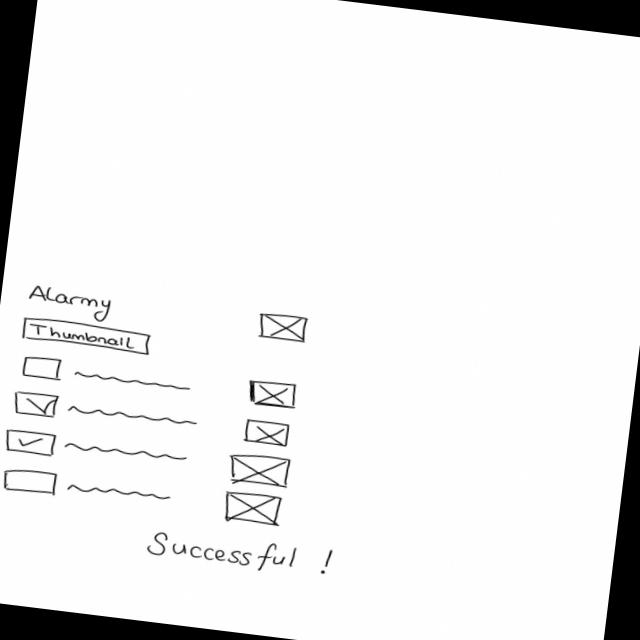button: (21, 315, 154, 356)
checkbox: (13, 390, 199, 439), (4, 428, 190, 475), (3, 466, 174, 511), (21, 355, 195, 399)
image: (228, 452, 293, 490), (222, 490, 285, 528), (257, 312, 311, 346), (247, 378, 299, 411), (242, 417, 292, 449)
label: (145, 527, 337, 583), (26, 283, 113, 324)
